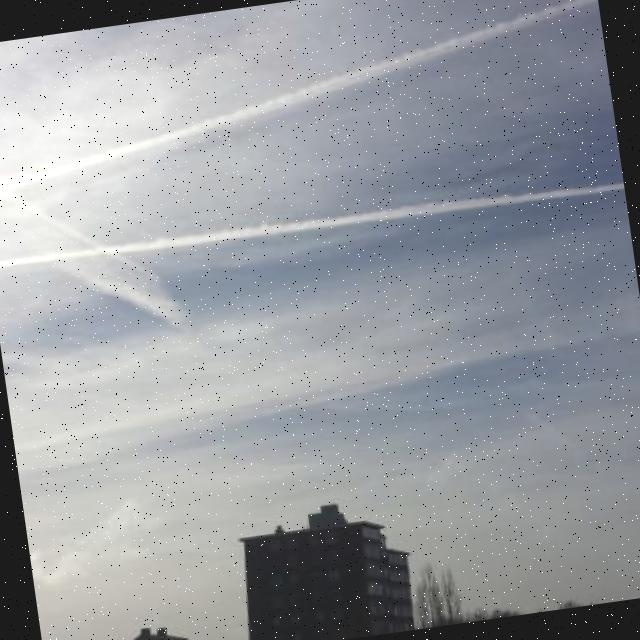Ct: (1, 1, 640, 382)
